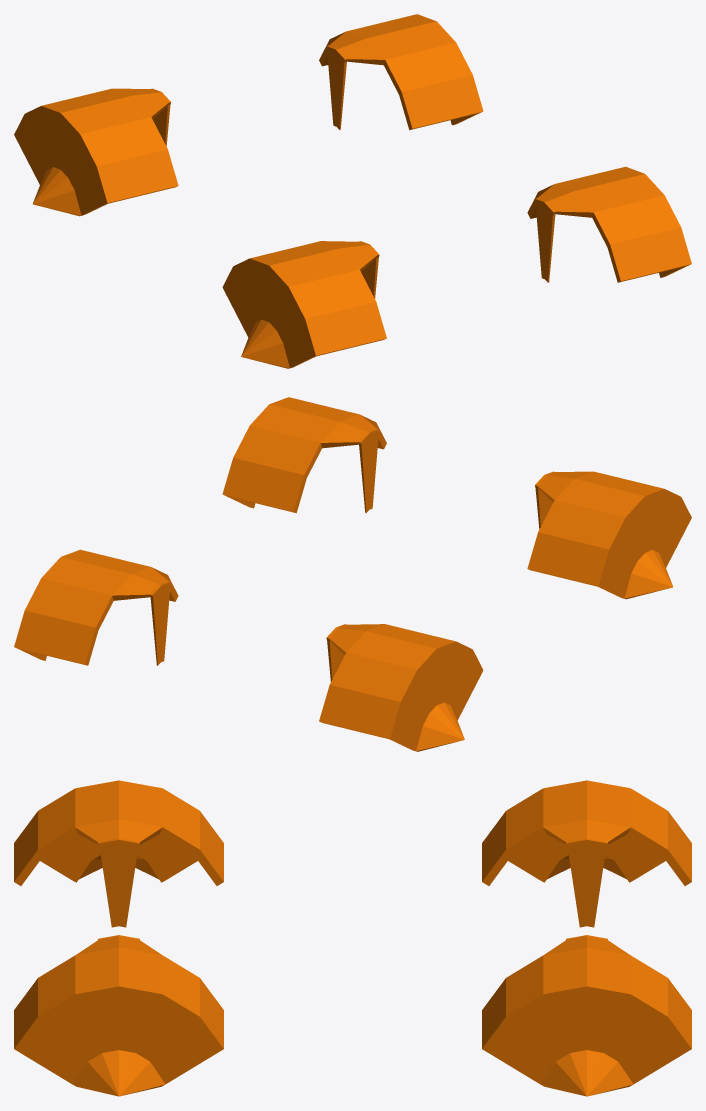
Rendered from wheelGuards4.glb.
3 views of the same model, one above another, from view 1: azimuth 30°, elevation 25°; view 2: azimuth 150°, elevation 25°; view 3: azimuth 270°, elevation 25° (orthographic). The views are drawn at different scales.
Visible parts, largest first — view 1: wheelGuards4; view 2: wheelGuards4; view 3: wheelGuards4.
Boxes of the visible parts, <box> form: wheelGuards4: <box>14,14,691,368</box>; wheelGuards4: <box>14,397,691,751</box>; wheelGuards4: <box>14,780,691,1096</box>.
Bounding box in the file's own units: 5.12 × 1.01 × 6.19.
Materials: 1 (1 with a texture image).
